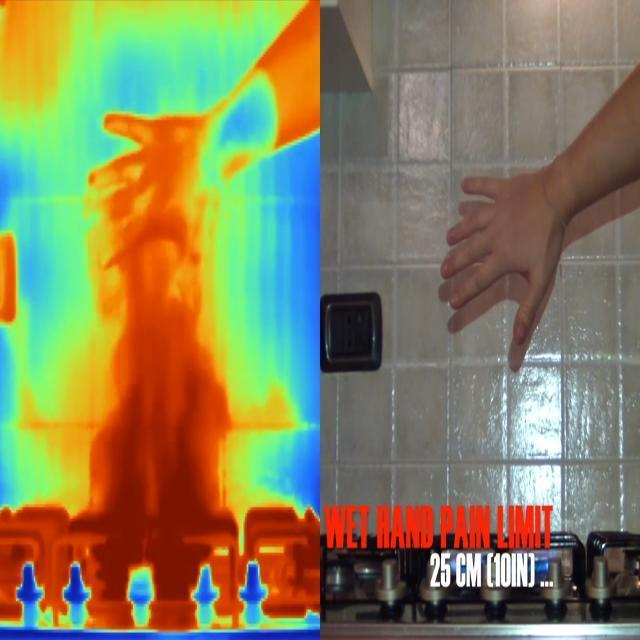fire: (75, 378, 228, 608)
